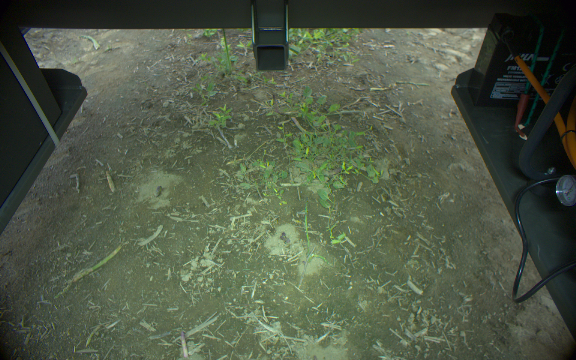aspa: (75, 242, 126, 283), (221, 28, 233, 70), (179, 330, 189, 360), (103, 170, 116, 192)
